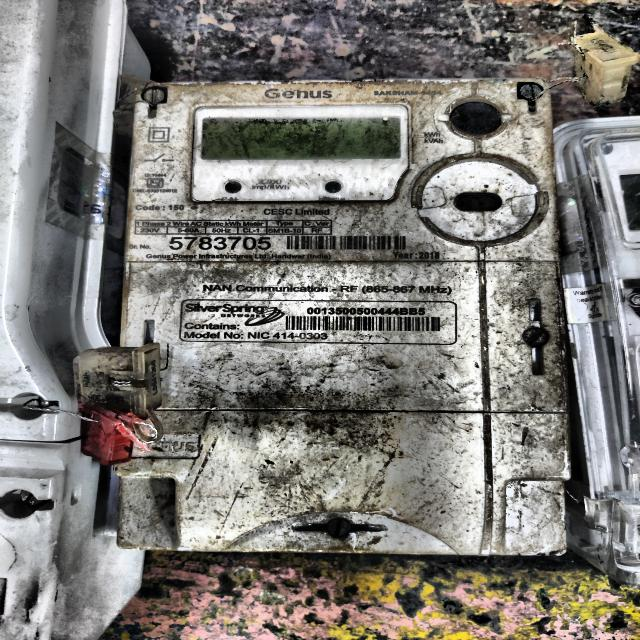Digital: (131, 82, 557, 550)
Reading: (205, 118, 401, 158)
Serial No.: (169, 236, 273, 251)
